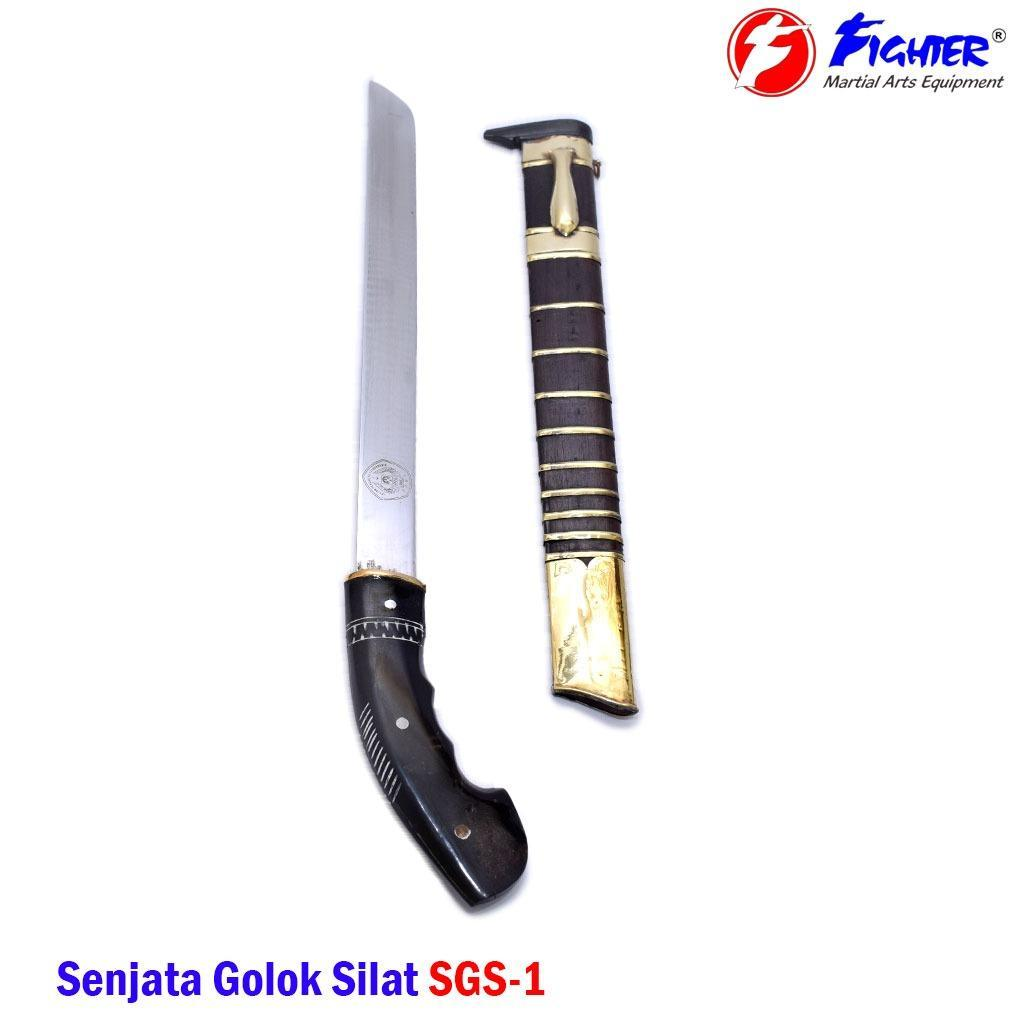facao: (282, 71, 570, 914), (468, 11, 752, 763)
